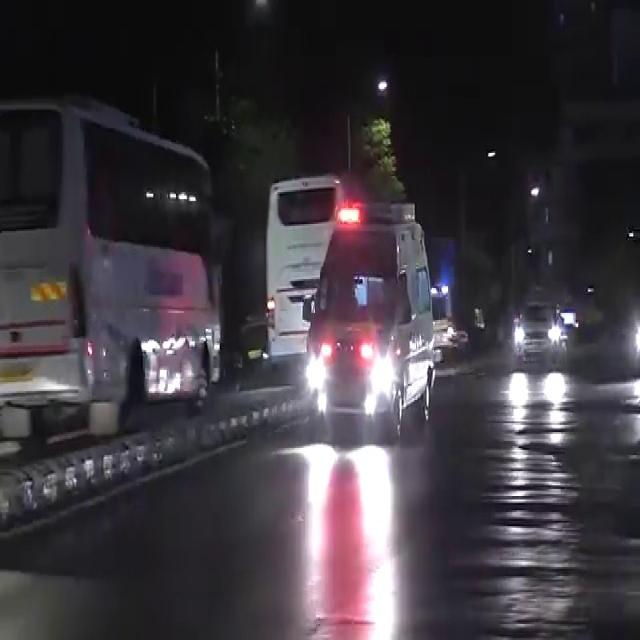ambulance: (311, 210, 437, 442)
